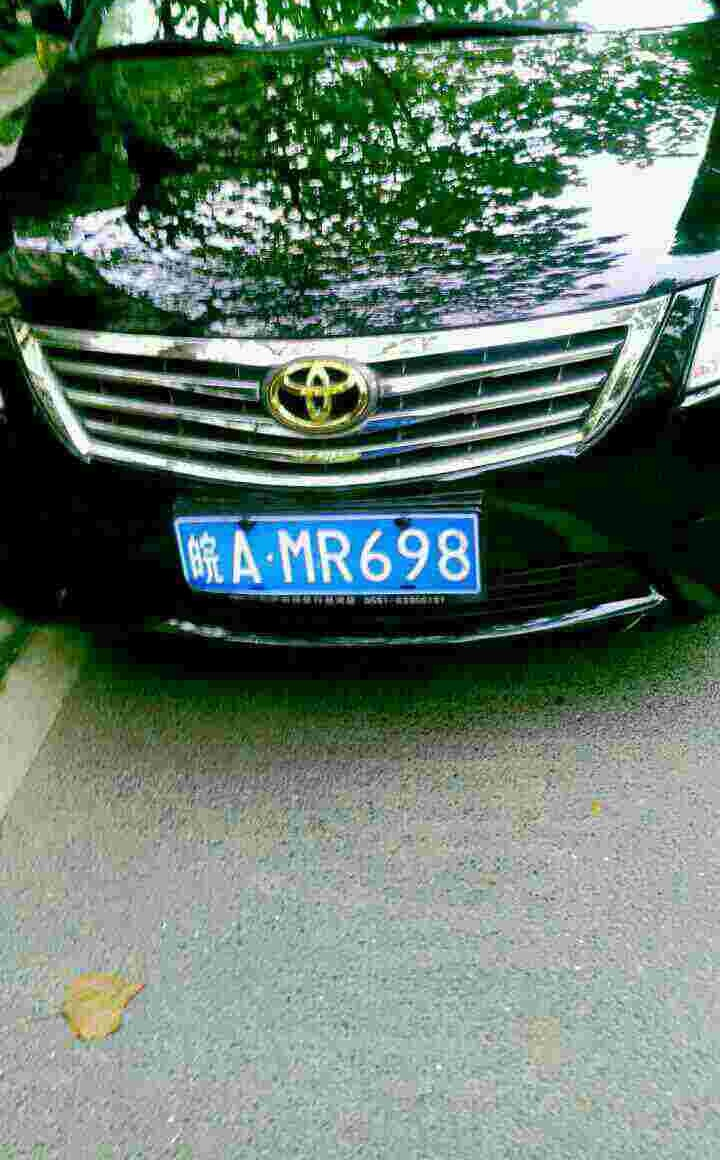license_plate: (177, 506, 482, 597)
